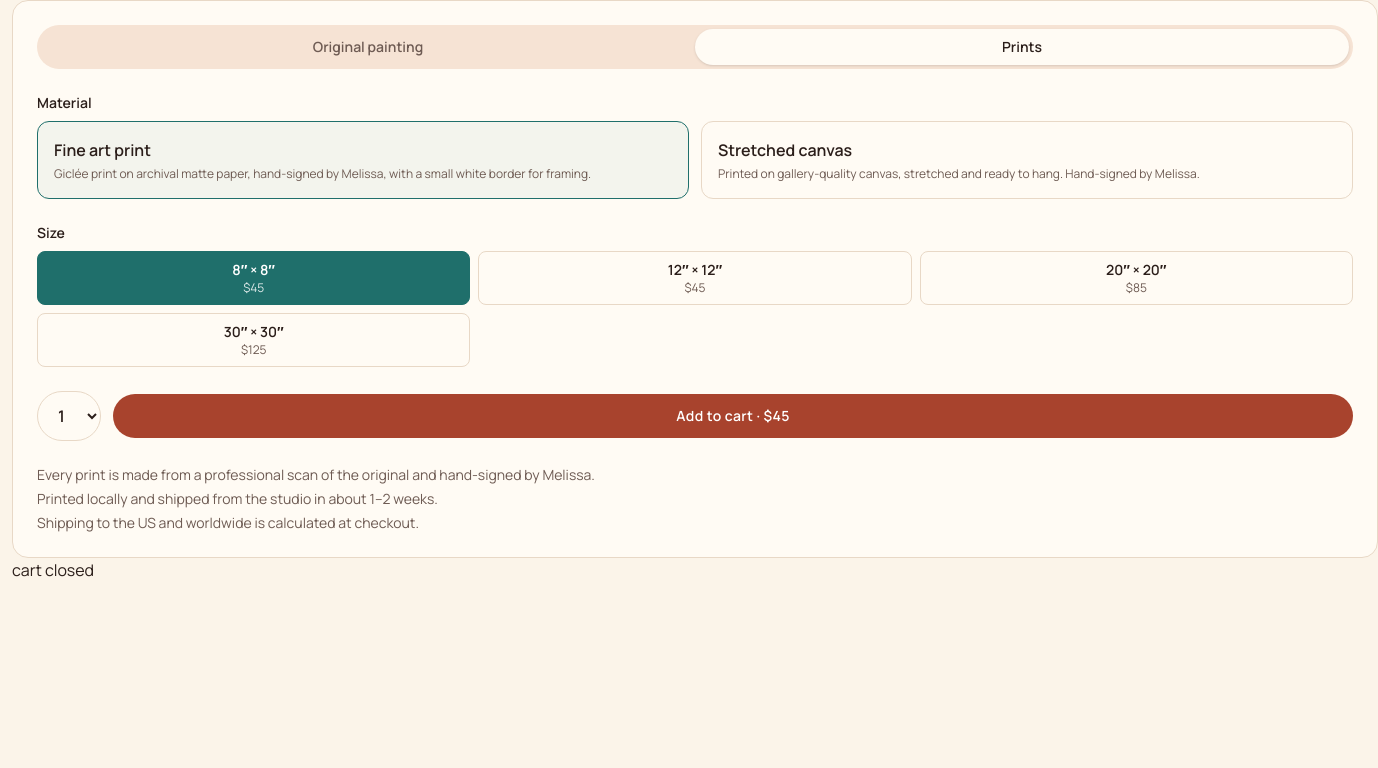
Scenario: PurchasePanel: original not for sale › opens on prints for a sold piece, and the original tab points back to prints
Click the tab "Original painting" at point(368, 47), box [41,29,695,65]
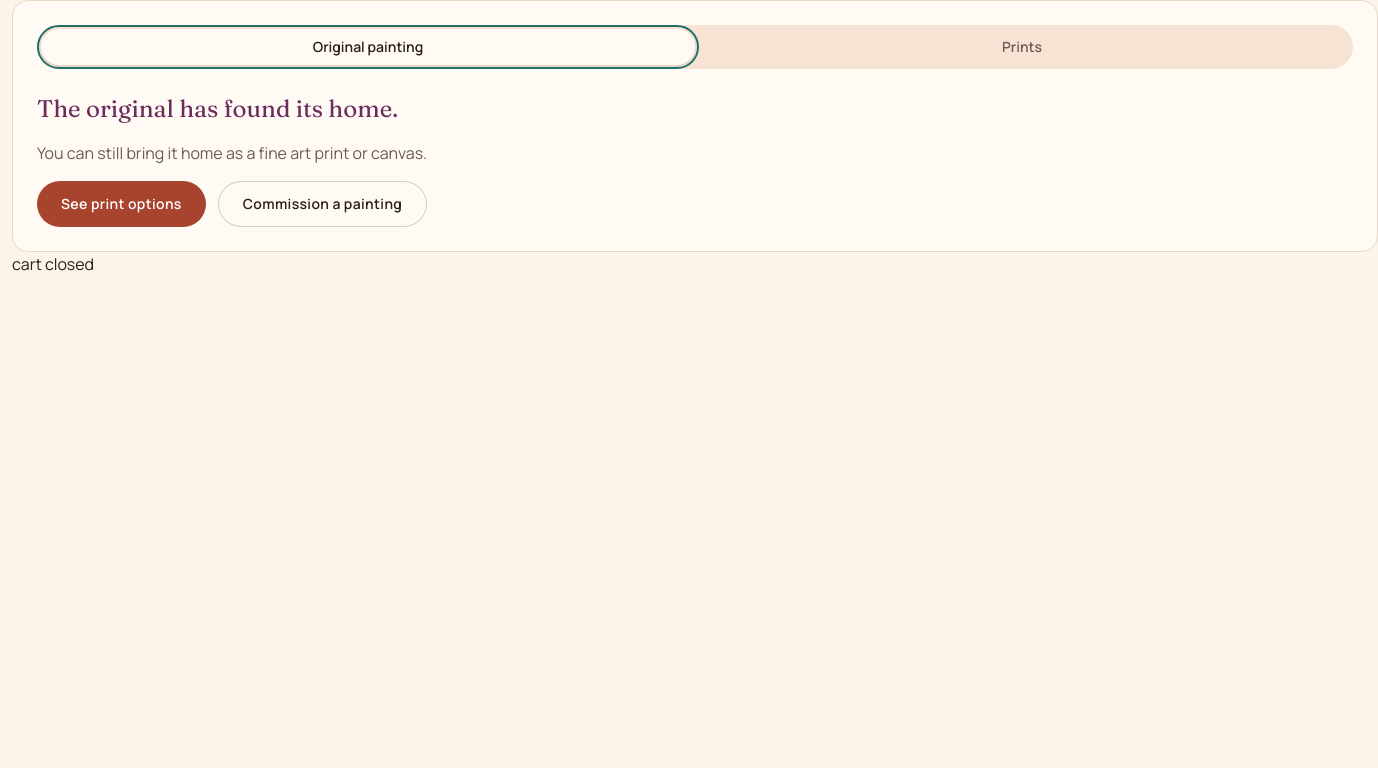
Expected: the text "The original has found its home." is shown, [37,94,398,123]
Expected: the text "You can still bring it home as a fine art print or canvas." is shown, [37,142,427,164]
Click the button "See print options" at point(121, 204), box [37,181,206,227]
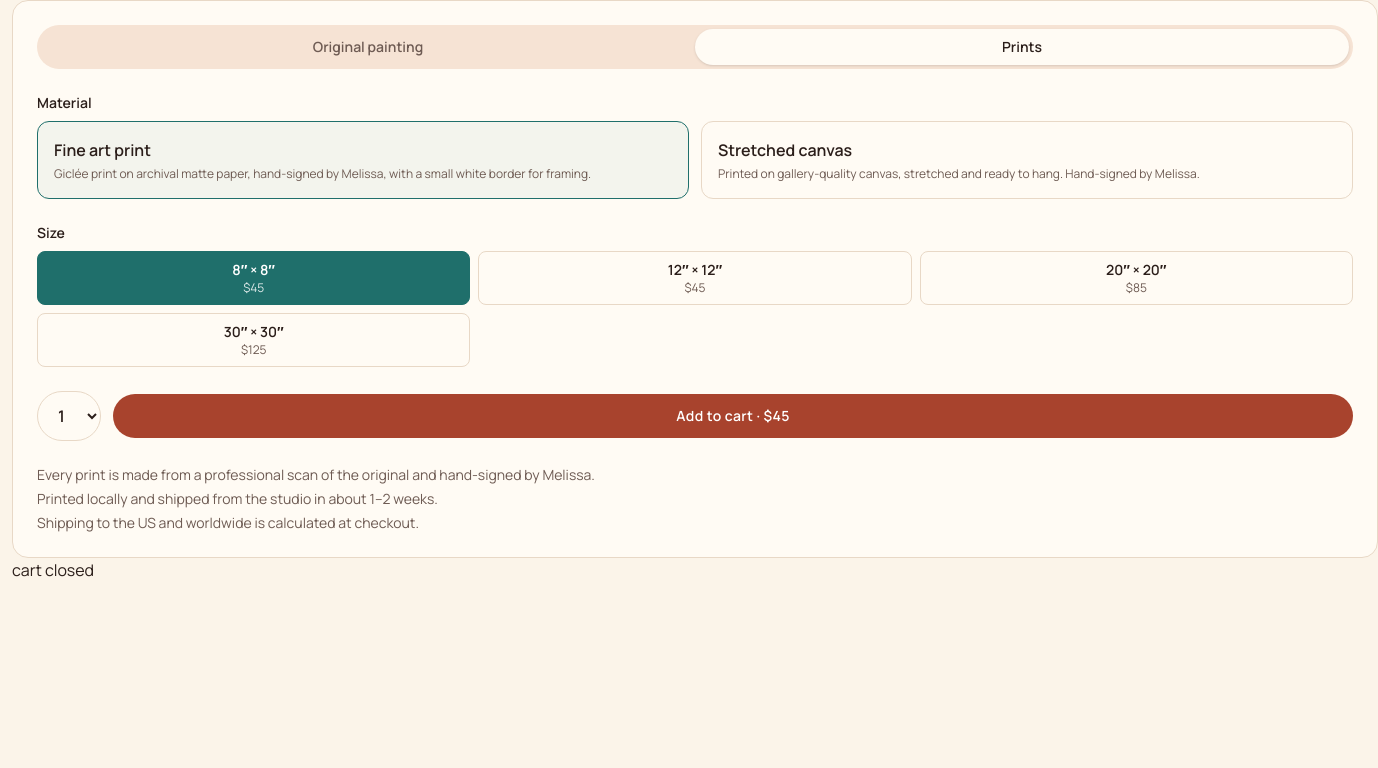
Expected: the element "Material" is shown, [37,93,1353,199]
